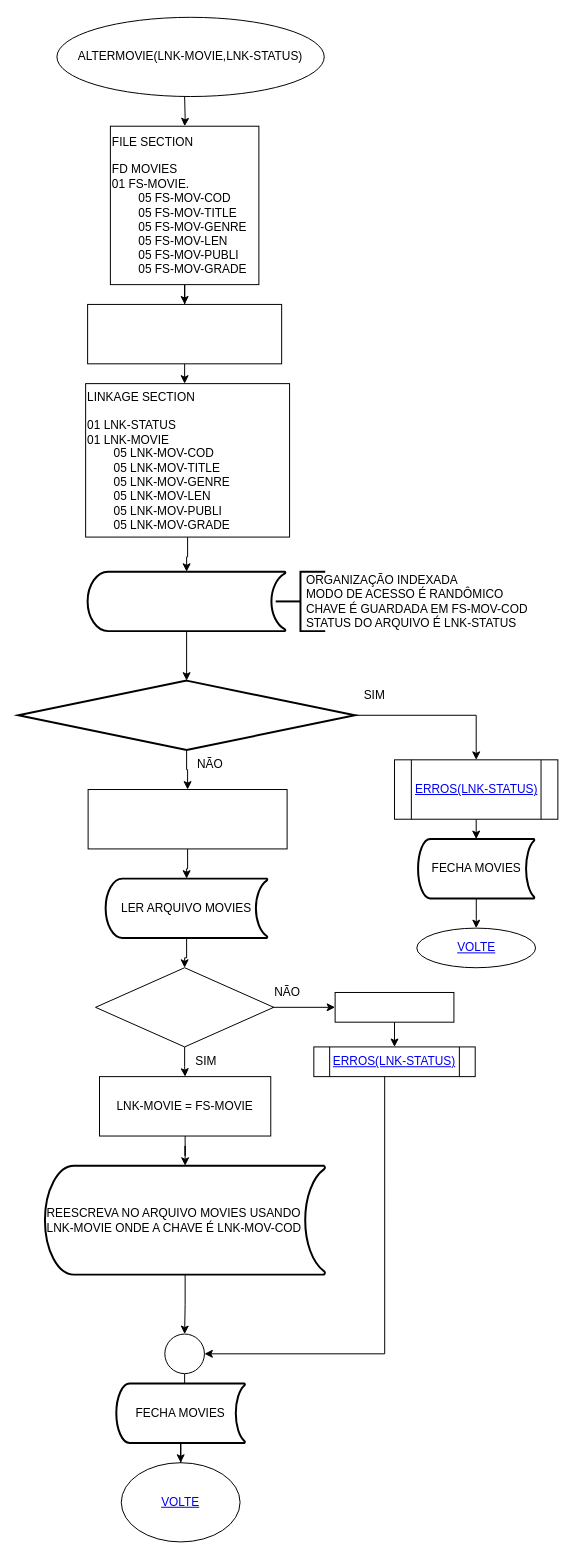
Some shapes in this 575 by 1559 pixel diagram are drawn without their labels. Each missing label, with the centre of its shape:
ACHOU UMA CHAVE VALIDA?: [184,1007]
FS-MOVIE=LNK-MOVIE: [187,819]
LNK-STATUS != 0: [186,714]
LNK-STATUS = 607: [394,1006]
MOVIES = ABRIR ARQUIVO "MOVIES.DAT" EM MODO I-O: [186,601]
WORKING-STORAGE 77 WRK-TECLA: [184,333]
